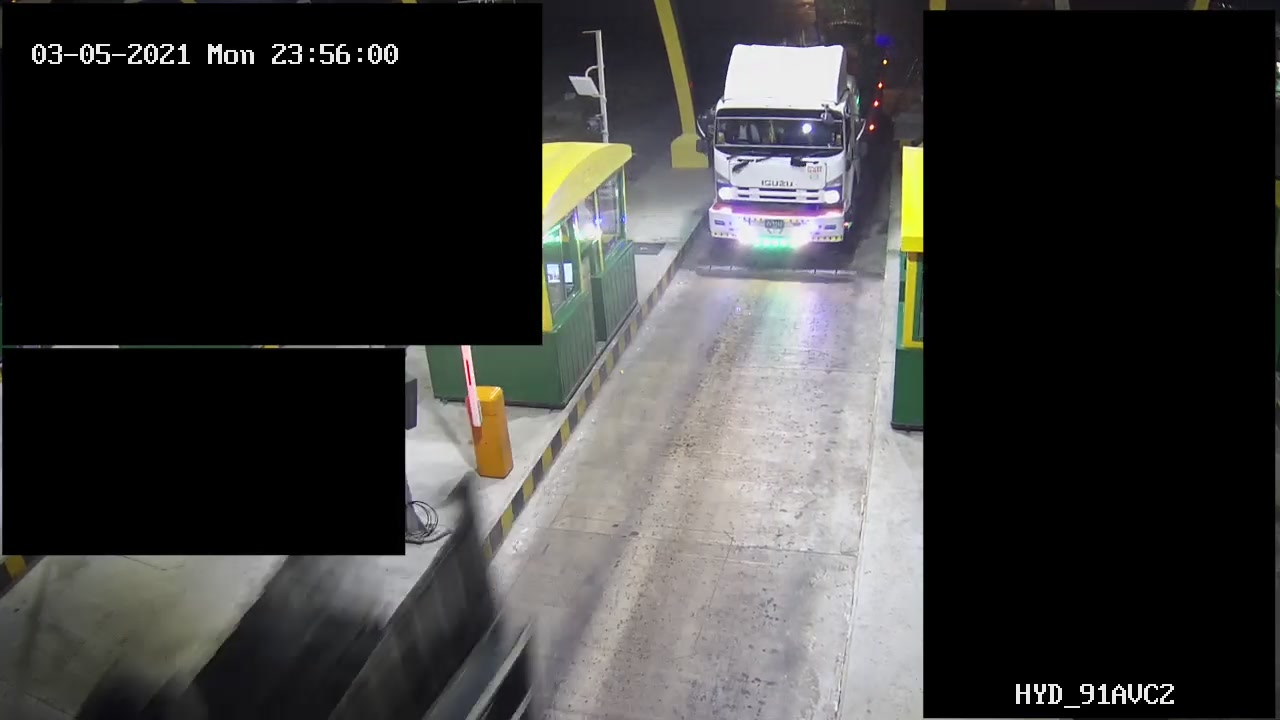F6: (704, 19, 896, 263)
